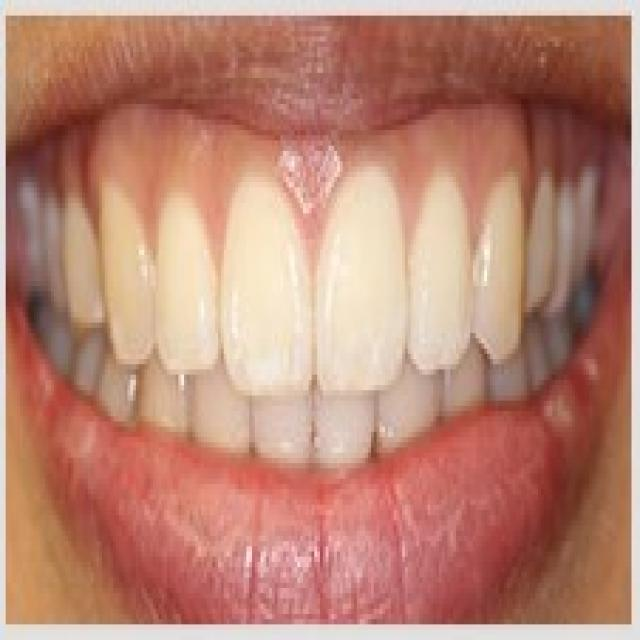tooth: (221, 177, 311, 380), (317, 177, 399, 380), (249, 375, 377, 484), (99, 188, 173, 370), (164, 177, 230, 349), (476, 156, 524, 359), (419, 203, 462, 369), (379, 385, 456, 448), (196, 369, 247, 458), (529, 177, 558, 317)
